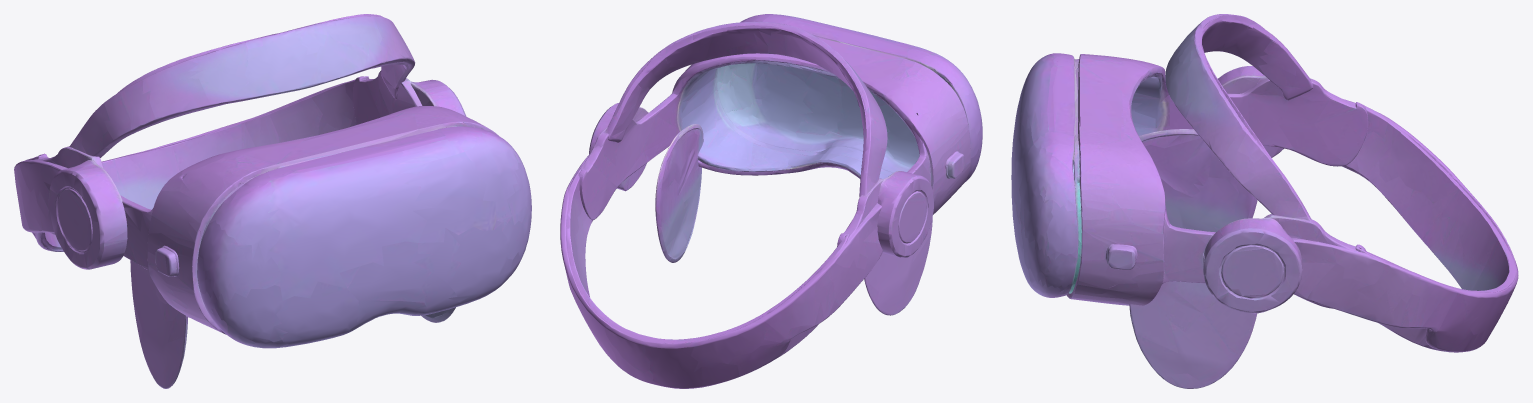
3 views of the same model, side by side, from view 1: azimuth 30°, elevation 25°; view 2: azimuth 150°, elevation 25°; view 3: azimuth 270°, elevation 25° (orthographic). The views are drawn at different scales.
Size of the model in its own units: 1.46 by 1.22 by 1.9.
Materials: 1 (1 with a texture image).
